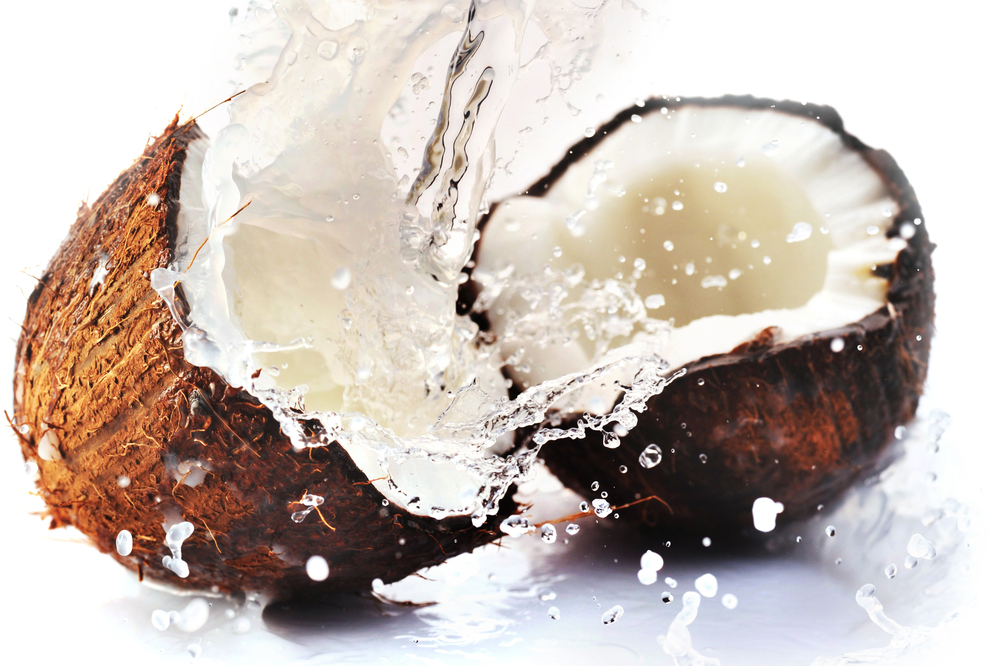coconut: (22, 101, 493, 578), (473, 102, 920, 542)
